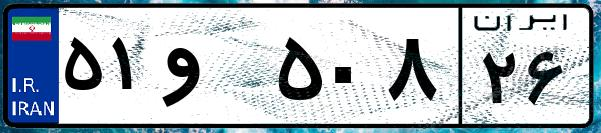0: (330, 28, 385, 110)
1: (110, 28, 158, 98)
2: (475, 38, 525, 113)
5: (270, 28, 330, 110), (57, 26, 110, 100)
6: (525, 38, 570, 115)
8: (385, 28, 445, 110)
و: (158, 20, 270, 120)
